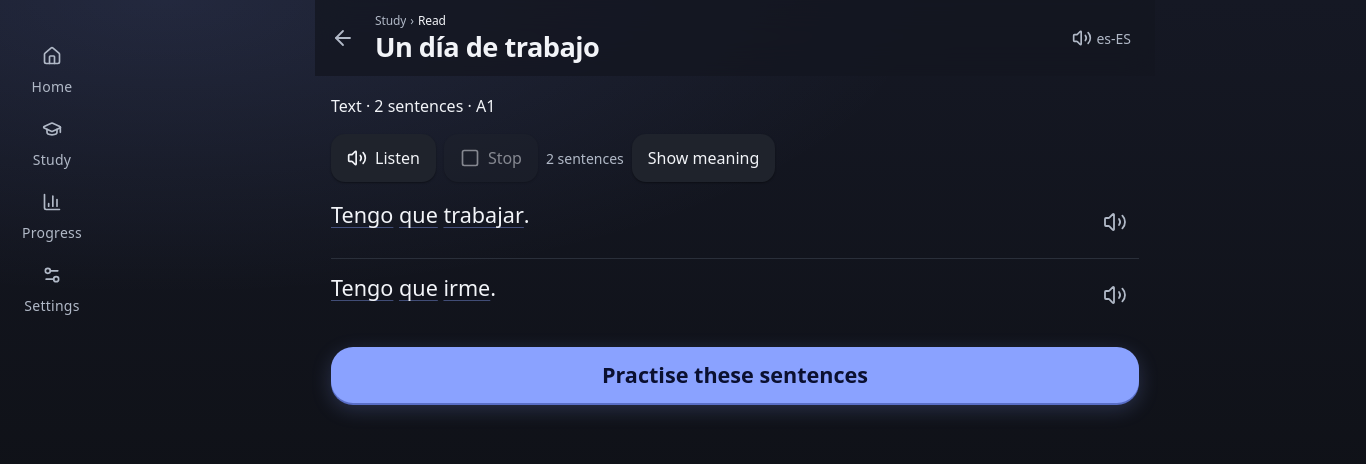
Test: a passage › keeps the meaning hidden until asked, so reading comes first
The width and height of the screenshot is (1366, 464).
Expected: the text "I have to work." is not shown
Click the button "Show meaning": [704, 158] box [632,134,775,182]
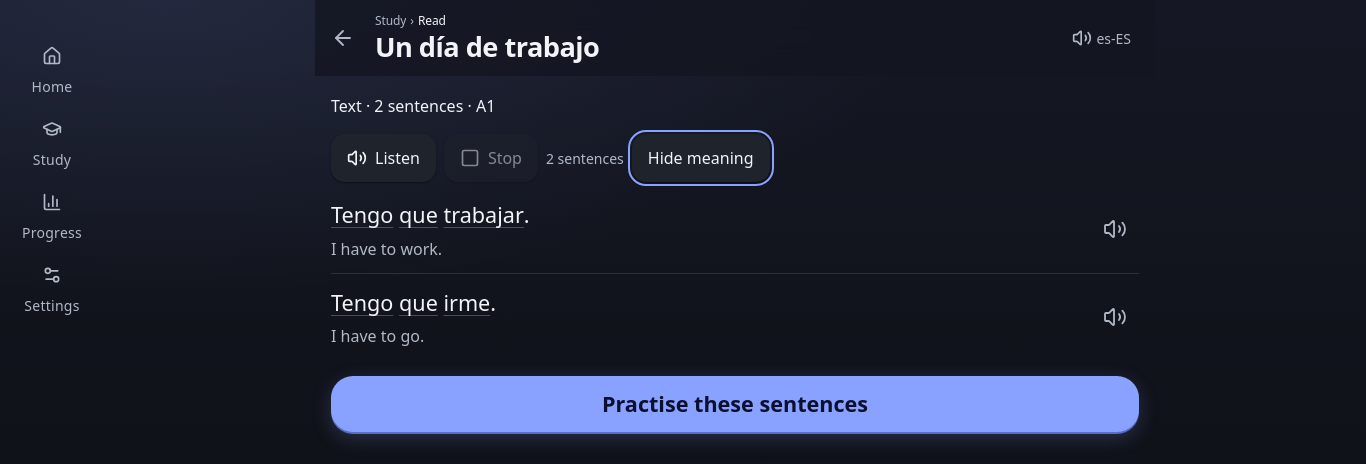
Result: the text "I have to work." is shown at [331,238,442,260]
